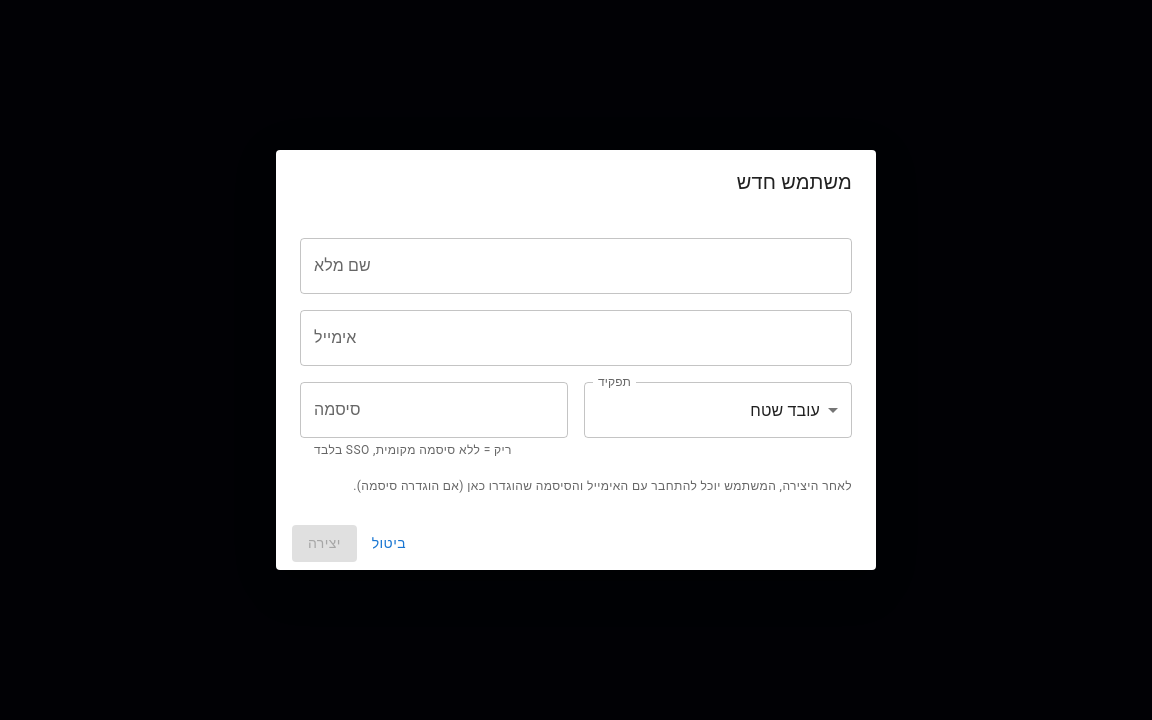
Test: UserDialog › shows the backend's Hebrew detail when saving fails
Type "משתמש" into the field labelled "שם מלא".
click(576, 266); type("משתמש")  # box [300,238,852,294]
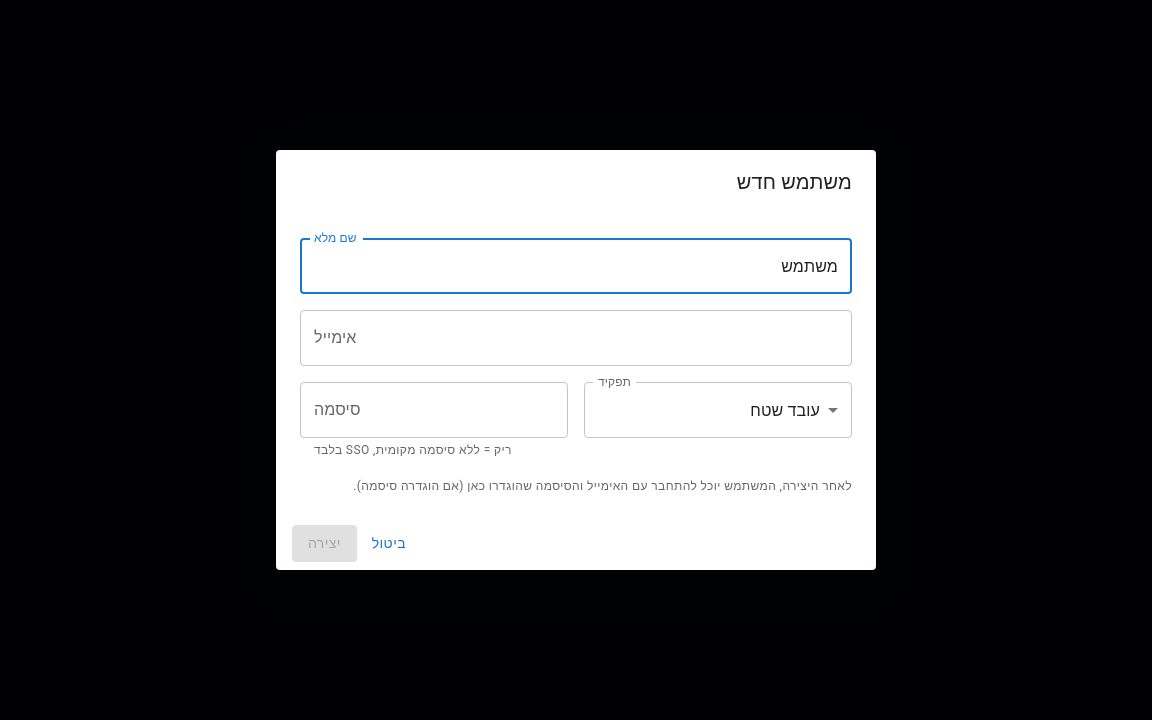
Type "taken@example.com" into the field labelled "אימייל".
click(576, 338); type("taken@example.com")  # box [300,310,852,366]
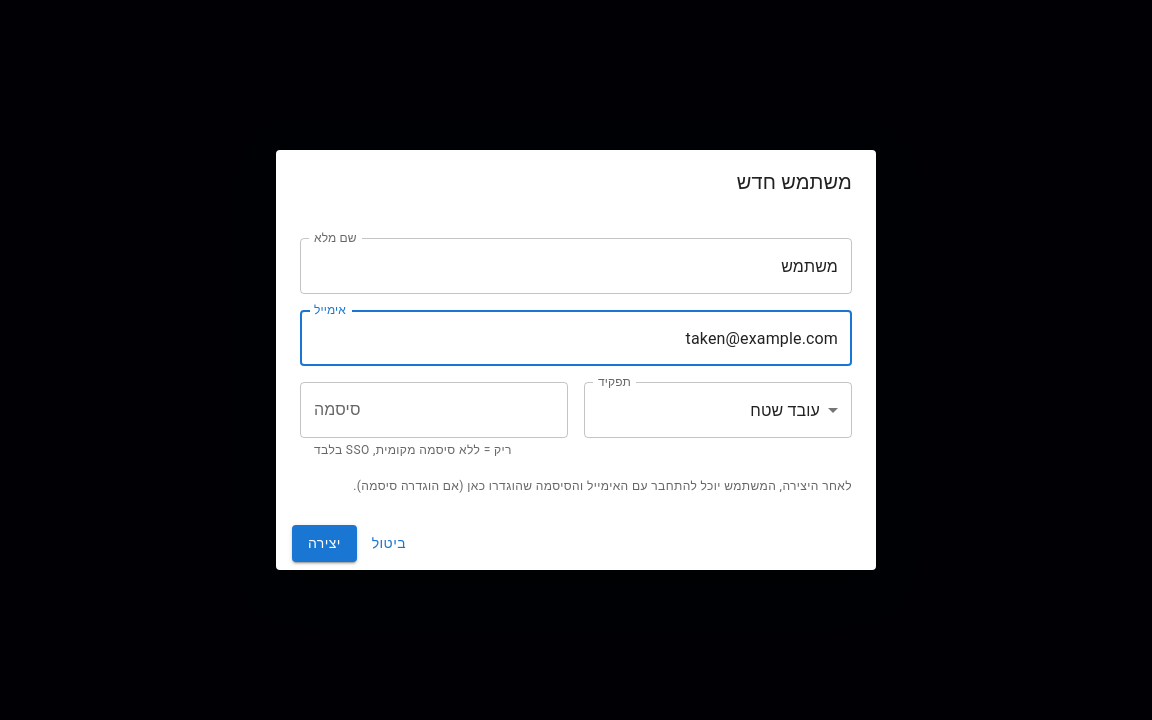
Click the button "יצירה".
click(324, 543)  # box [292,525,357,562]
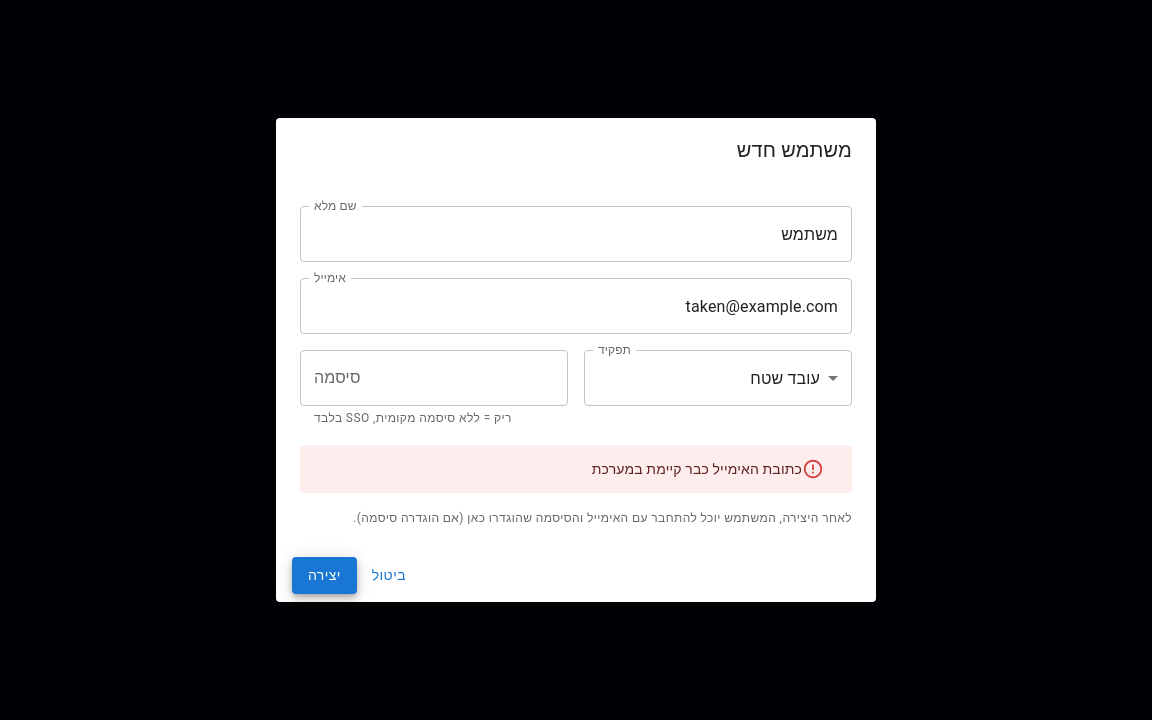
Now the text "כתובת האימייל כבר קיימת במערכת" is shown, box [592,461,802,477]
